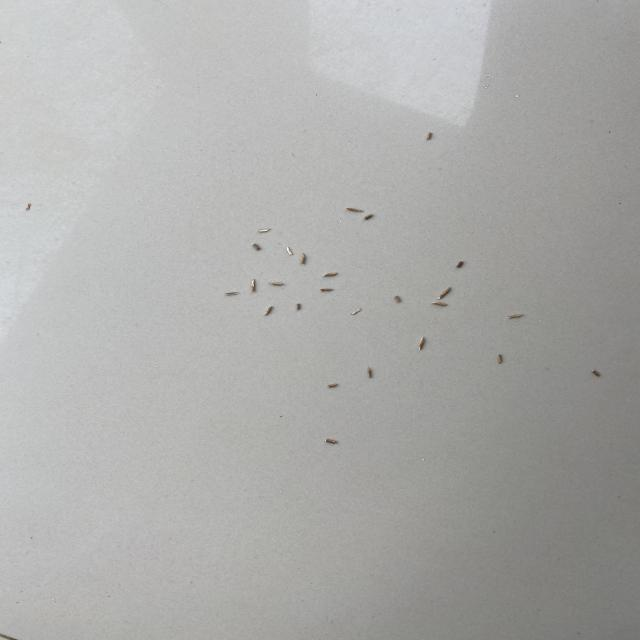Wereng: (434, 287, 460, 299), (428, 299, 450, 309), (342, 205, 367, 213), (494, 350, 508, 364), (268, 280, 286, 290), (223, 289, 245, 297), (504, 312, 525, 320), (347, 308, 366, 316), (320, 272, 345, 278), (588, 367, 603, 377), (263, 305, 275, 317), (365, 364, 374, 380), (324, 382, 342, 390), (324, 438, 340, 447), (22, 202, 36, 212), (362, 212, 377, 221), (391, 296, 405, 305), (251, 280, 259, 295), (318, 288, 338, 294), (258, 227, 275, 234), (283, 246, 293, 257), (426, 129, 434, 142), (292, 303, 303, 312), (299, 252, 306, 266), (250, 243, 262, 251), (455, 259, 464, 269), (420, 336, 424, 351)
